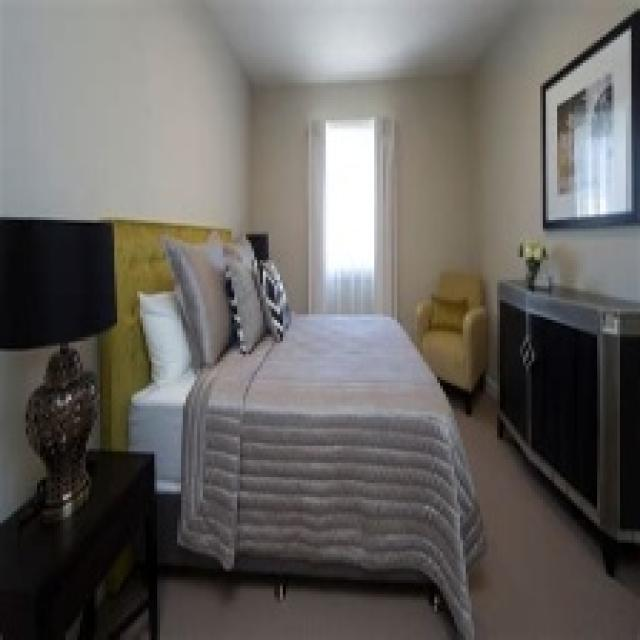Bed: (97, 214, 486, 637)
